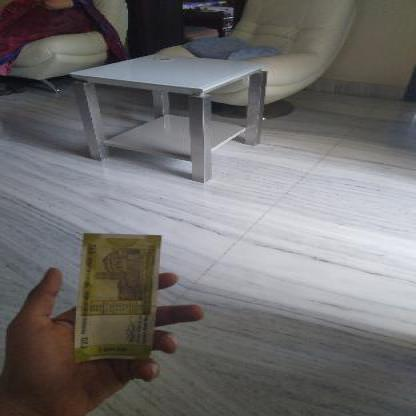New20Back: (79, 232, 156, 364)
